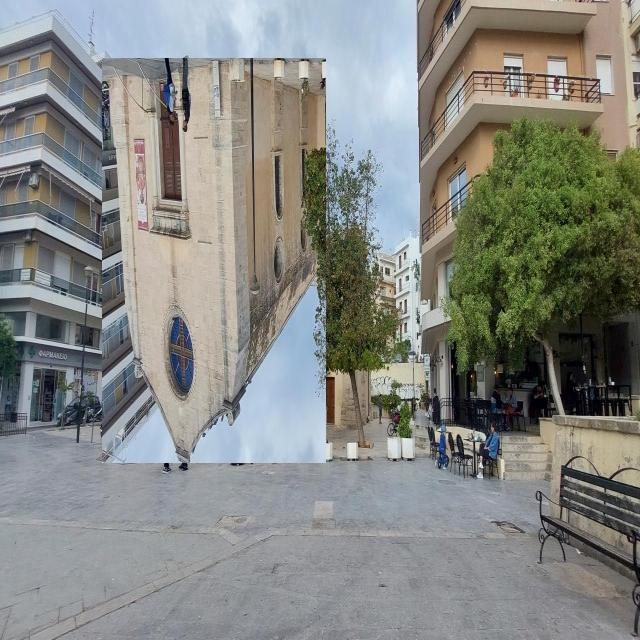Agia Aikaterini: (103, 59, 327, 464)
